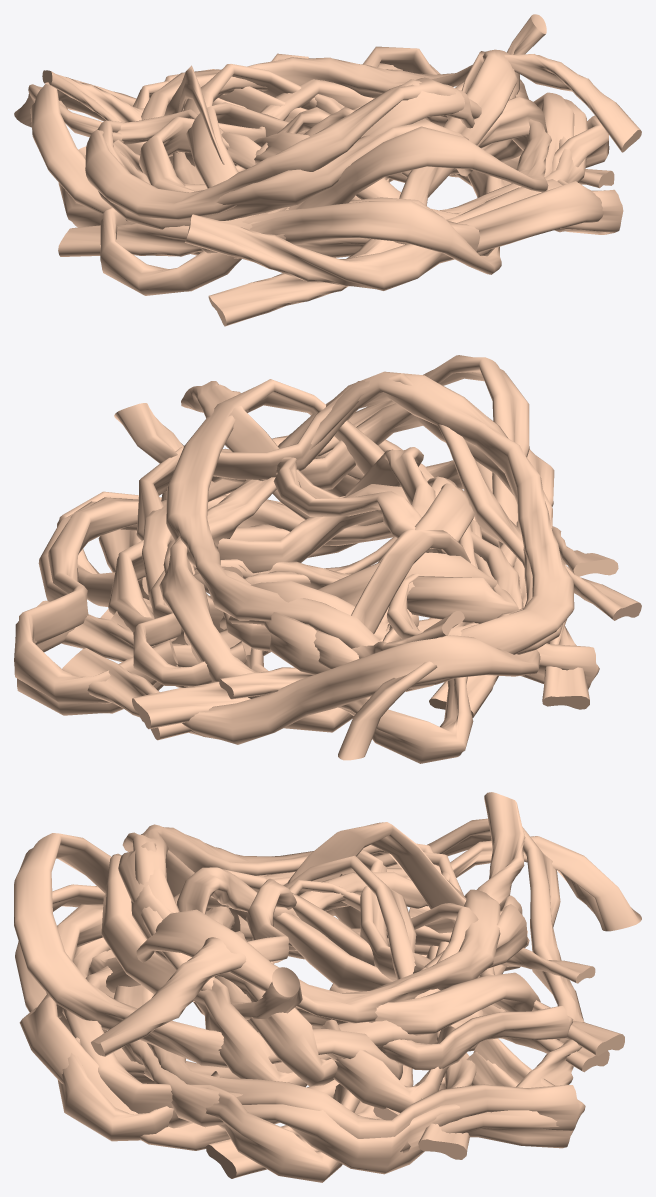
Rendered from Noodlsdfd.fbx.
The picture shows the model from 3 angles, top to bottom: view 1: azimuth 30°, elevation 25°; view 2: azimuth 150°, elevation 25°; view 3: azimuth 270°, elevation 25°; orthographic projection. The views are drawn at different scales.
Visible parts, largest first — view 1: polySurface2127; view 2: polySurface2127; view 3: polySurface2127.
Boxes of the visible parts, x1=… form: polySurface2127: x1=14, y1=14, x2=641, y2=326; polySurface2127: x1=14, y1=355, x2=641, y2=763; polySurface2127: x1=14, y1=792, x2=641, y2=1182.
Size of the model in its own units: 46.48 by 18.41 by 43.83.
